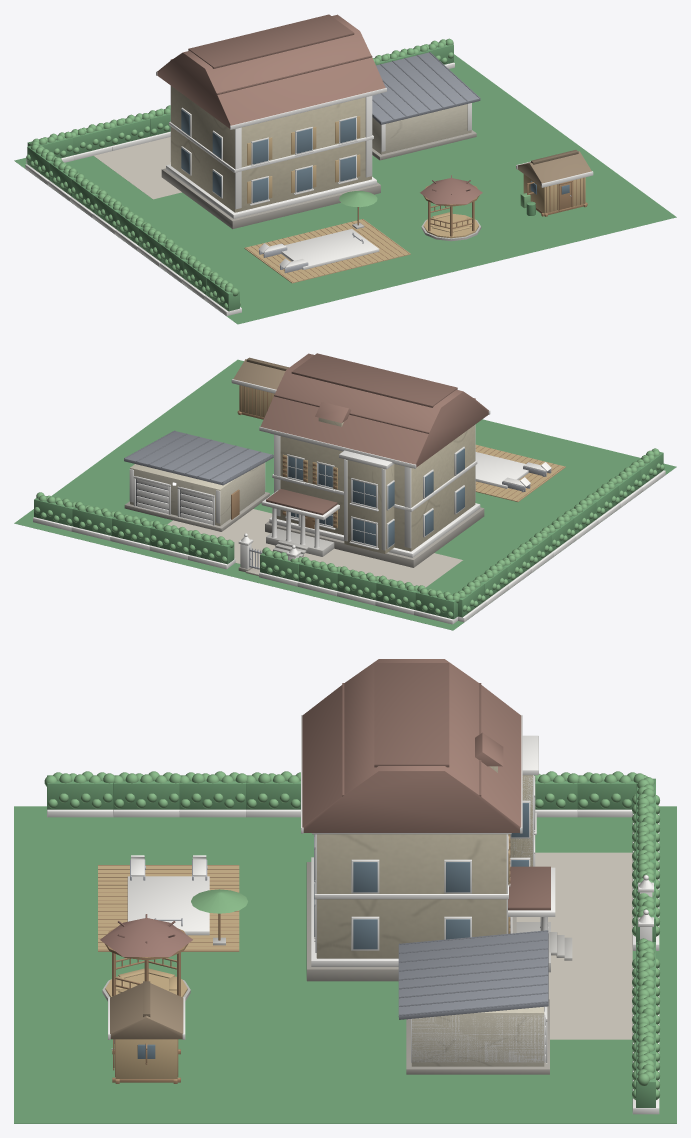
The model's file is th47_grundstueck.glb.
The picture shows the model from 3 angles, top to bottom: view 1: azimuth 30°, elevation 25°; view 2: azimuth 150°, elevation 25°; view 3: azimuth 270°, elevation 25°; orthographic projection. The views are drawn at different scales.
Parts seen in each view (by area): view 1: Cube, Mansarddach, Cube.004, Cube.314, Cube.281, Cube.325, Cube.291, Cube.001, Cube.349, Cube.002, Cube.003, Satteldach (+12 smaller); view 2: Cube, Mansarddach, Cube.004, Cube.001, Cube.314, Cube.281, Cube.291, Cube.009, Cube.002, Cube.325, Cube.349, Cube.003 (+23 smaller); view 3: Cube, Mansarddach, Cube.004, Cube.001, Cube.314, Cube.281, Cube.291, Cube.325, Cube.293, Cube.349, Satteldach, Cone.001 (+19 smaller).
Part boxes in pixels (left/top/right/bottom): Cube: left=14, top=54, right=676, bottom=324; Mansarddach: left=157, top=14, right=385, bottom=128; Cube.004: left=171, top=86, right=371, bottom=212; Cube.314: left=372, top=52, right=480, bottom=124; Cube.281: left=188, top=14, right=354, bottom=68; Cube.325: left=244, top=219, right=410, bottom=283; Cube.291: left=372, top=104, right=471, bottom=154; Cube.001: left=94, top=137, right=181, bottom=199; Cube.349: left=281, top=229, right=379, bottom=269; Cube.002: left=161, top=168, right=380, bottom=229; Cube.003: left=166, top=164, right=376, bottom=218; Satteldach: left=517, top=151, right=591, bottom=186; Cube: left=14, top=359, right=676, bottom=630; Mansarddach: left=260, top=353, right=488, bottom=467; Cube.004: left=276, top=425, right=475, bottom=551; Cube.001: left=167, top=509, right=462, bottom=587; Cube.314: left=124, top=431, right=273, bottom=485; Cube.281: left=291, top=353, right=457, bottom=407; Cube.291: left=130, top=462, right=264, bottom=525; Cube.009: left=344, top=459, right=394, bottom=553; Cube.002: left=265, top=507, right=484, bottom=567; Cube.325: left=475, top=444, right=565, bottom=501; Cube.349: left=475, top=452, right=528, bottom=488; Cube.003: left=269, top=503, right=480, bottom=557; Cube: left=14, top=806, right=676, bottom=1123; Mansarddach: left=302, top=659, right=521, bottom=832; Cube.004: left=316, top=834, right=506, bottom=958; Cube.001: left=516, top=852, right=632, bottom=1039; Cube.314: left=398, top=931, right=548, bottom=1019; Cube.281: left=374, top=663, right=449, bottom=767; Cube.291: left=411, top=1007, right=544, bottom=1066; Cube.325: left=98, top=865, right=239, bottom=951; Cube.293: left=411, top=1011, right=545, bottom=1062; Cube.349: left=127, top=876, right=209, bottom=935; Satteldach: left=110, top=983, right=183, bottom=1039; Cone.001: left=100, top=918, right=192, bottom=956.
Size of the model in its own units: 34.04 by 10.69 by 30.
105 materials, 2 textured.
